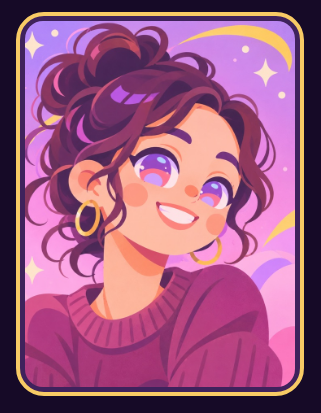
Test case: does not cancel touch when implicit capture transfers from a card face to the button
The image size is (321, 413).
Press the mouse on the button named "Lucía Sandoval, Común, 1 copias, ilustración" at (160, 204), box top-left (16, 12), bottom-right (304, 396)
Wait 64 ms
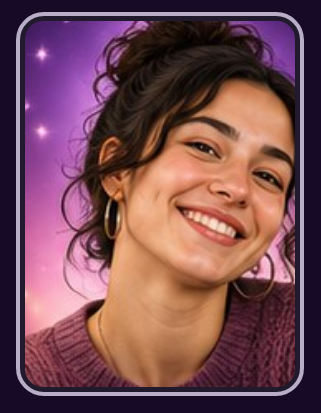
Now the button named "Lucía Sandoval, Común, 1 copias, fotografía" has attribute data-rear="true"
